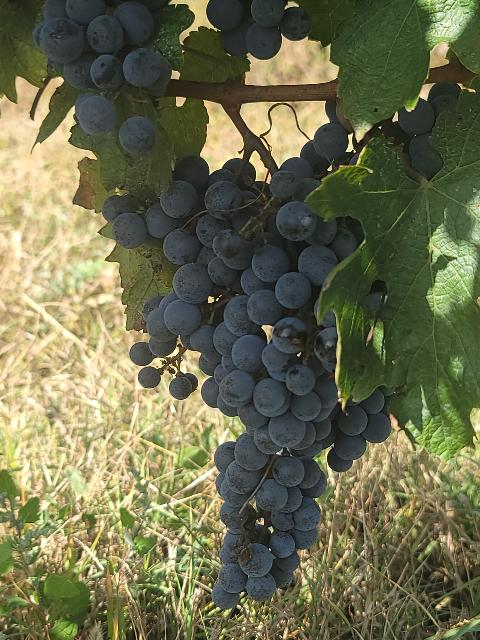grapes: (101, 122, 396, 610)
